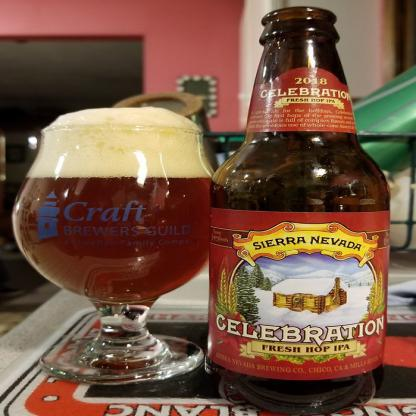drinking: (205, 6, 391, 415), (11, 106, 228, 384)
